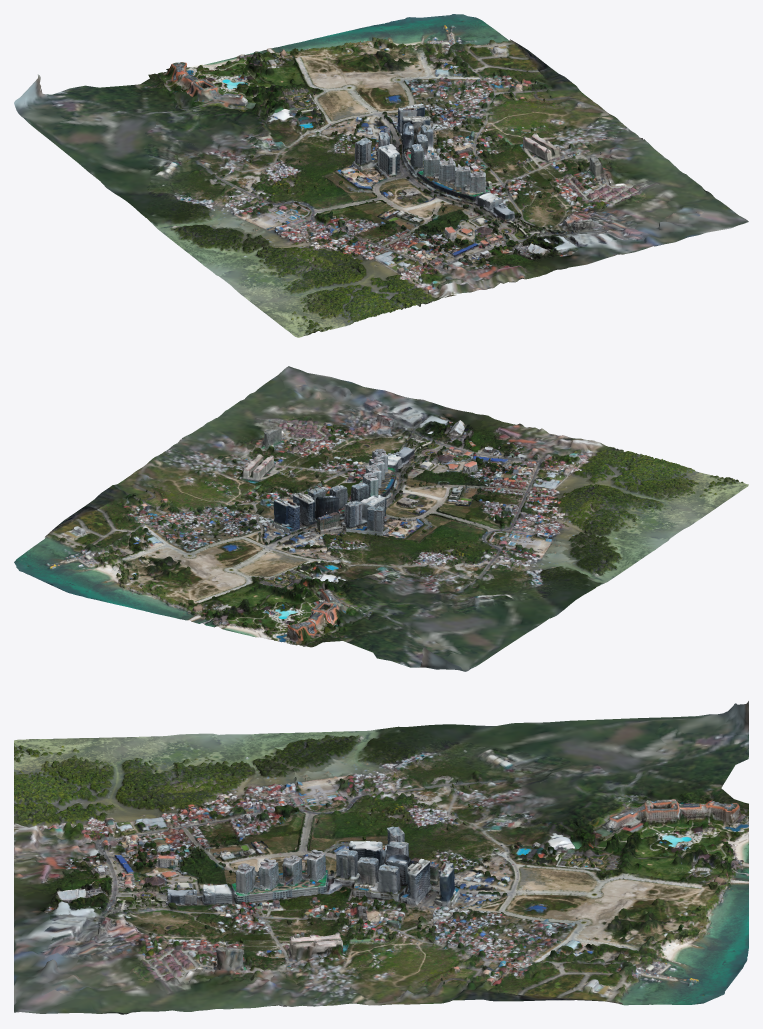
File: map_philippines.glb
3 views of the same model, one above another, from view 1: azimuth 30°, elevation 25°; view 2: azimuth 150°, elevation 25°; view 3: azimuth 270°, elevation 25° (orthographic). The views are drawn at different scales.
Parts seen in each view (by area): view 1: unnamed, unnamed.001, unnamed.002; view 2: unnamed, unnamed.001, unnamed.002; view 3: unnamed, unnamed.001, unnamed.002.
Boxes of the visible parts, x1,y1,x2,y2 form: unnamed: (100,14,737,337); unnamed.001: (21,29,670,265); unnamed.002: (14,17,748,335); unnamed: (14,375,748,652); unnamed.001: (71,404,654,669); unnamed.002: (33,366,739,671); unnamed: (14,731,748,1014); unnamed.001: (43,701,748,1006); unnamed.002: (14,703,748,1013).
Size of the model in its own units: 436 by 41.99 by 483.
Materials: 1 (1 with a texture image).
